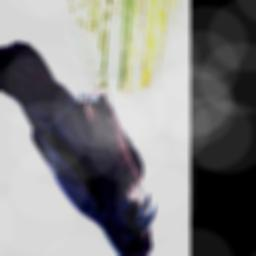Crow: (0, 40, 155, 256)
